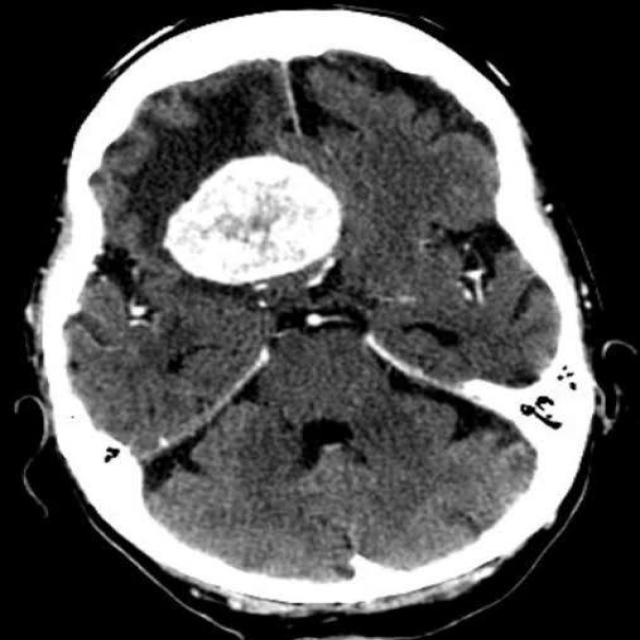Tumor: (155, 150, 351, 288)
